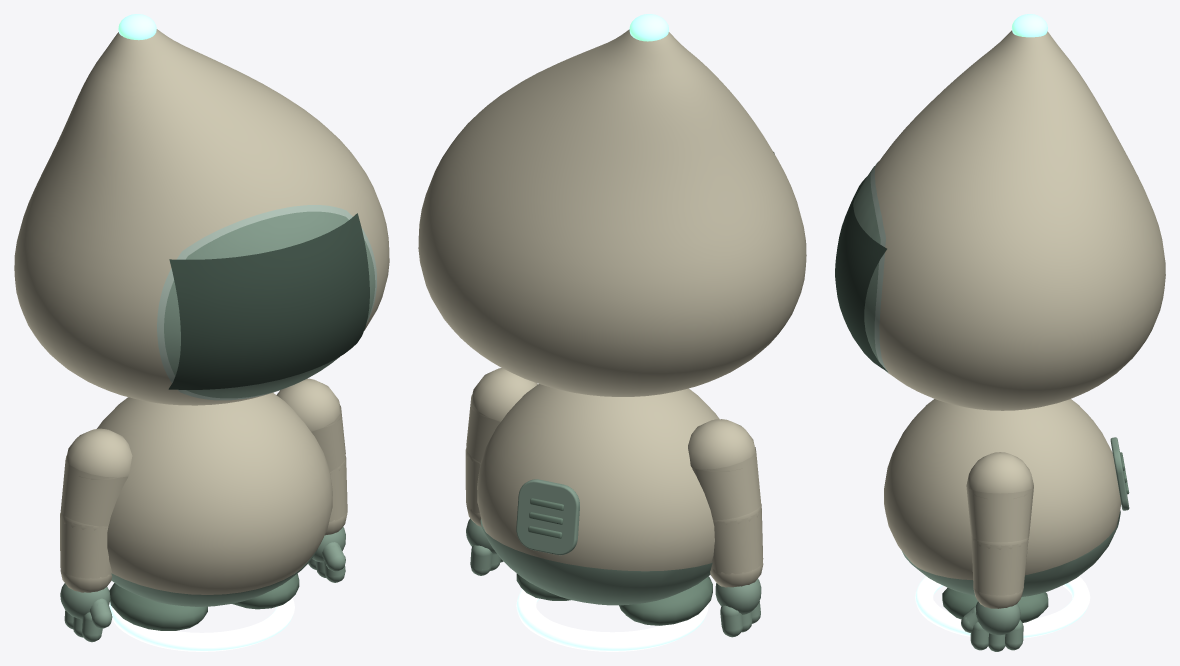
Rendered from gota.glb.
3 views of the same model, side by side, from view 1: azimuth 30°, elevation 25°; view 2: azimuth 150°, elevation 25°; view 3: azimuth 270°, elevation 25° (orthographic). The views are drawn at different scales.
Parts seen in each view (by area): view 1: Head, Body, FaceScreen, Visor, Arm_R, HoverRing, Arm_L, Forearm_R, FaceRim, Foot_R, Shorts, Forearm_L (+4 smaller); view 2: Head, Body, Shorts, Arm_R, HoverRing, BackPanel, Forearm_R, Arm_L, Foot_R, Hand_R, AntennaLight, Fingers_R (+3 smaller); view 3: Head, Body, Arm_L, FaceScreen, Forearm_L, HoverRing, Shorts, Visor, Foot_L, Hand_L, FaceRim, Fingers_L (+2 smaller).
Part boxes in pixels (left/top/right/bottom): Head: left=14, top=29, right=389, bottom=405; Body: left=97, top=393, right=332, bottom=594; FaceScreen: left=168, top=213, right=369, bottom=389; Visor: left=164, top=211, right=375, bottom=398; Arm_R: left=60, top=428, right=132, bottom=530; HoverRing: left=109, top=598, right=294, bottom=651; Arm_L: left=276, top=378, right=346, bottom=474; Forearm_R: left=60, top=512, right=112, bottom=592; FaceRim: left=157, top=205, right=376, bottom=400; Foot_R: left=109, top=583, right=207, bottom=630; Shorts: left=111, top=548, right=317, bottom=606; Forearm_L: left=325, top=459, right=347, bottom=535; Head: left=418, top=29, right=806, bottom=396; Body: left=477, top=384, right=719, bottom=571; Shorts: left=480, top=519, right=712, bottom=605; Arm_R: left=688, top=419, right=761, bottom=524; HoverRing: left=516, top=589, right=708, bottom=651; BackPanel: left=516, top=479, right=579, bottom=555; Forearm_R: left=710, top=504, right=763, bottom=587; Arm_L: left=466, top=368, right=537, bottom=464; Foot_R: left=619, top=576, right=712, bottom=625; Hand_R: left=715, top=579, right=761, bottom=614; AntennaLight: left=629, top=14, right=668, bottom=41; Fingers_R: left=720, top=601, right=760, bottom=637; Head: left=874, top=30, right=1165, bottom=410; Body: left=884, top=399, right=1121, bottom=579; Arm_L: left=966, top=452, right=1033, bottom=549; FaceScreen: left=835, top=177, right=887, bottom=371; Forearm_L: left=971, top=536, right=1028, bottom=608; HoverRing: left=915, top=576, right=1090, bottom=638; Shorts: left=902, top=510, right=1120, bottom=596; Visor: left=853, top=166, right=880, bottom=361; Foot_L: left=942, top=587, right=1048, bottom=622; Hand_L: left=975, top=601, right=1020, bottom=635; FaceRim: left=870, top=161, right=888, bottom=372; Fingers_L: left=970, top=620, right=1023, bottom=651.
Bounding box in the file's own units: 0.5998 × 1.03 × 0.547.
